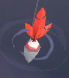idle: (21, 7, 53, 64)
